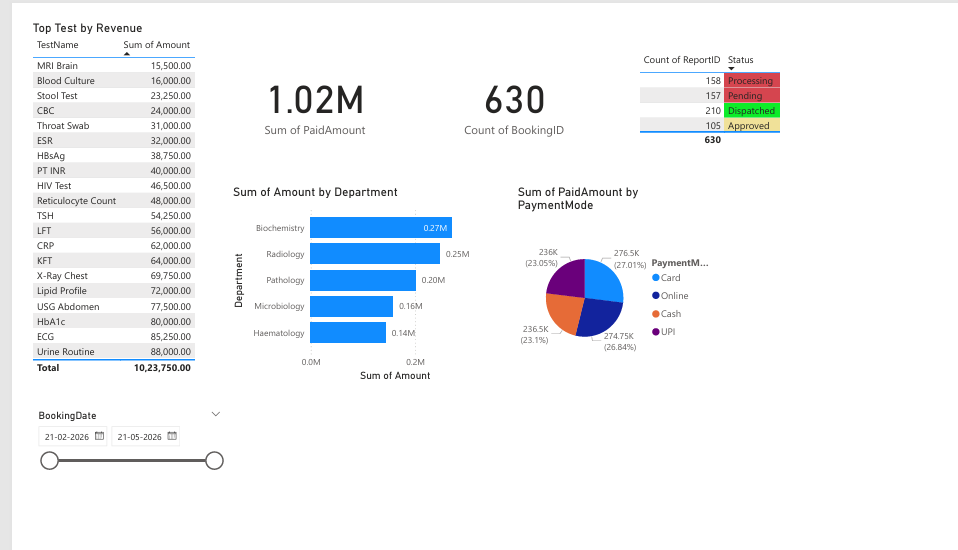

The page's visual inventory and layout, read from the dashboard file:
{"tool":"powerbi","page":{"name":"Page 1","canvas":[1280,720],"ordinal":0},"visuals":[{"type":"card","fields":{"Values":["CountNonNull(lab Booking.BookingID)"]},"box":[540.7,0,274.4,227.8],"z":0},{"type":"card","fields":{"Values":["Sum(lab Payment.PaidAmount)"]},"box":[279.9,0,238.8,229.2],"z":1000},{"type":"clusteredBarChart","fields":{"Category":["lab Test.Department"],"Y":["Sum(lab BookingTest.Amount)"]},"box":[279.9,229.2,369.1,279.9],"z":2000},{"type":"pieChart","fields":{"Category":["lab Payment.PaymentMode"],"Y":["Sum(lab Payment.PaidAmount)"]},"box":[677.9,229.2,279.9,279.9],"z":3000},{"type":"tableEx","title":"Top Test by Revenue","fields":{"Values":["lab Test.TestName","Sum(lab BookingTest.Amount)"]},"box":[0,0,279.9,509.1],"z":4000},{"type":"slicer","fields":{"Values":["lab Booking.BookingDate"]},"box":[0,539.3,279.9,150.9],"z":5000},{"type":"tableEx","fields":{"Values":["CountNonNull(lab Report.ReportID)","lab Report.Status"]},"box":[848,39.8,242.9,175.6],"z":5001}]}

Visuals, with their boxes in screenshot pixels (x1, y1, x2, y2), scaled from the page's 1280x720 canvas onto the 958x550 screenshot:
card - CountNonNull(lab Booking.BookingID): (405,0,610,174)
card - Sum(lab Payment.PaidAmount): (209,0,388,175)
clusteredBarChart - lab Test.Department x Sum(lab BookingTest.Amount): (209,175,486,389)
pieChart - lab Payment.PaymentMode x Sum(lab Payment.PaidAmount): (507,175,717,389)
"Top Test by Revenue" tableEx: (0,0,209,389)
slicer - lab Booking.BookingDate: (0,412,209,527)
tableEx - CountNonNull(lab Report.ReportID) x lab Report.Status: (635,30,816,165)
